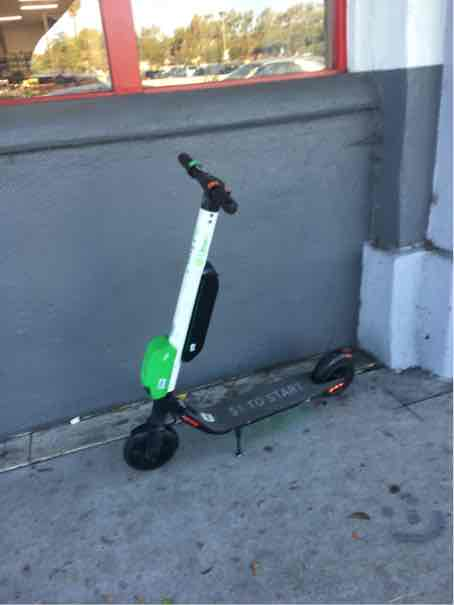scooter: (115, 141, 373, 483)
